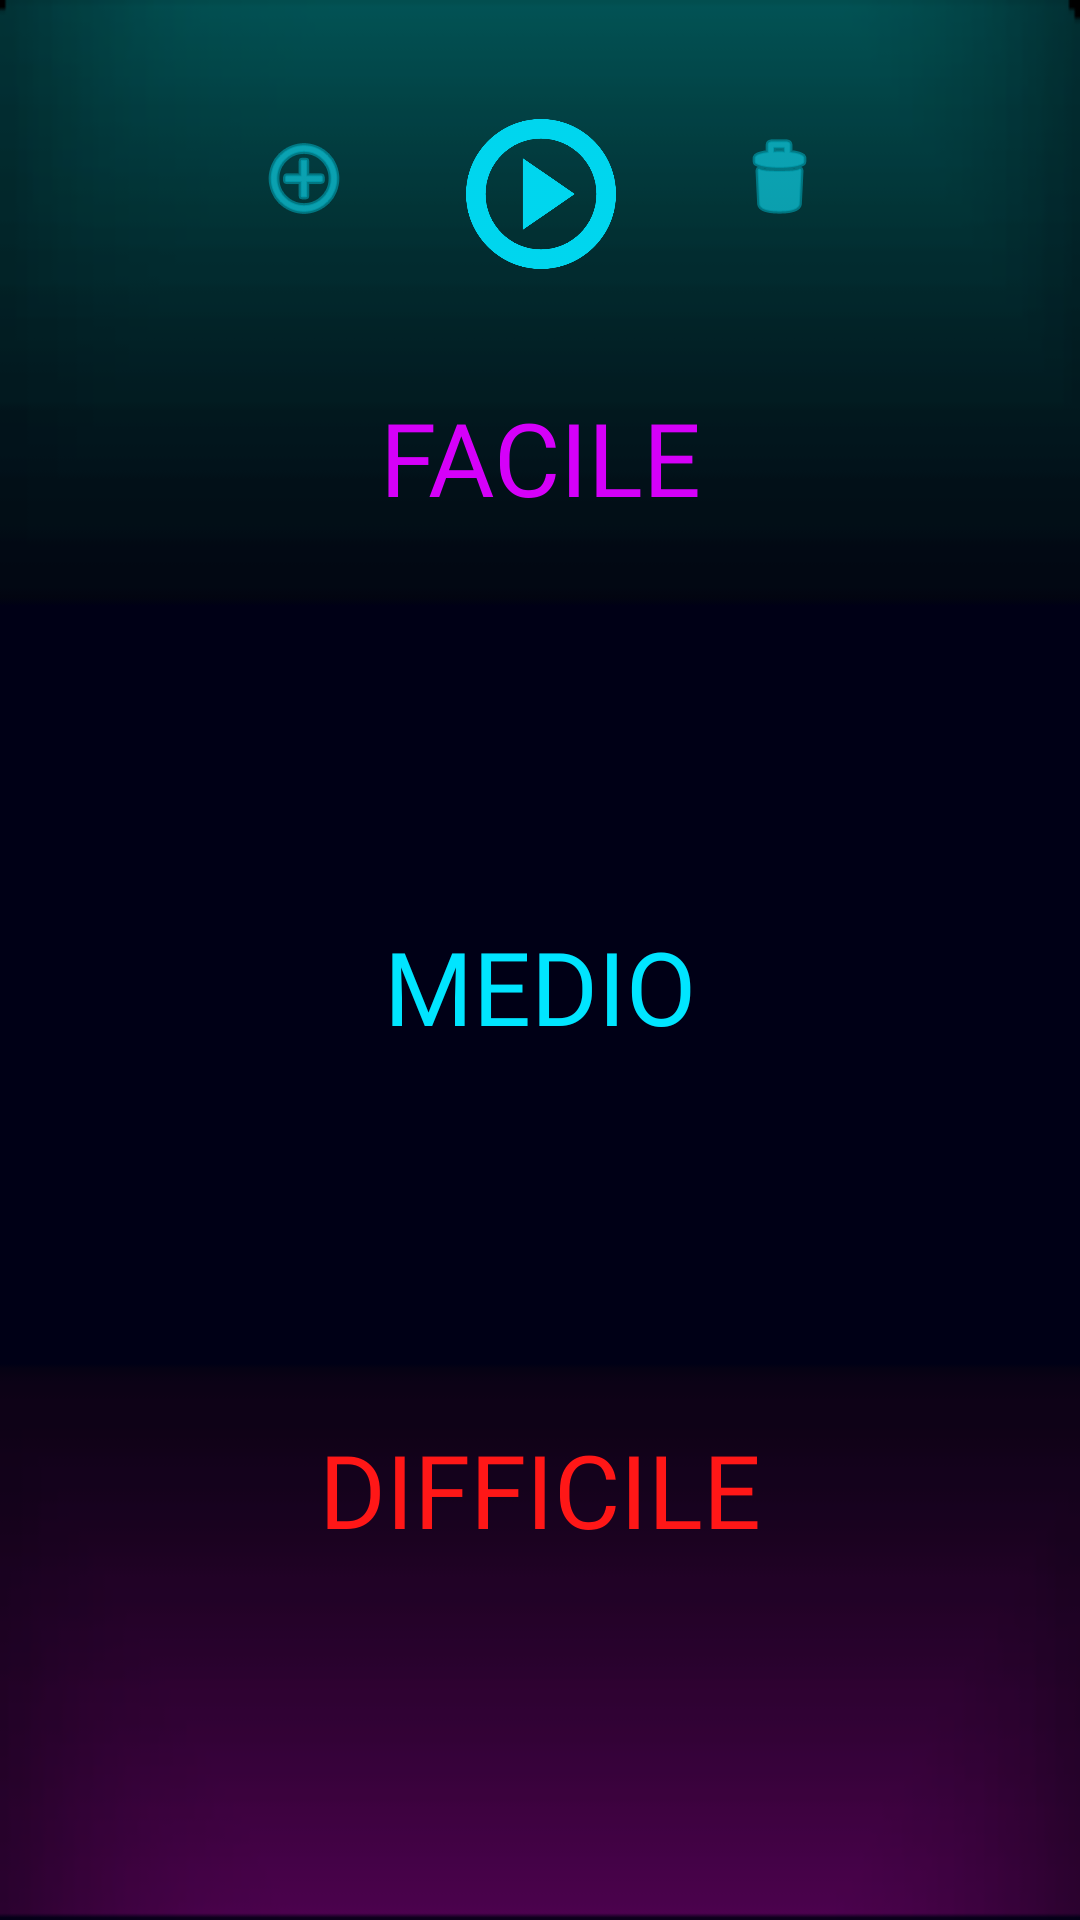

Named icons in this screenshot (1080px x 1920px) and their centers, [x,y]:
add: [304,178]
delete: [779,176]
play: [540,194]
